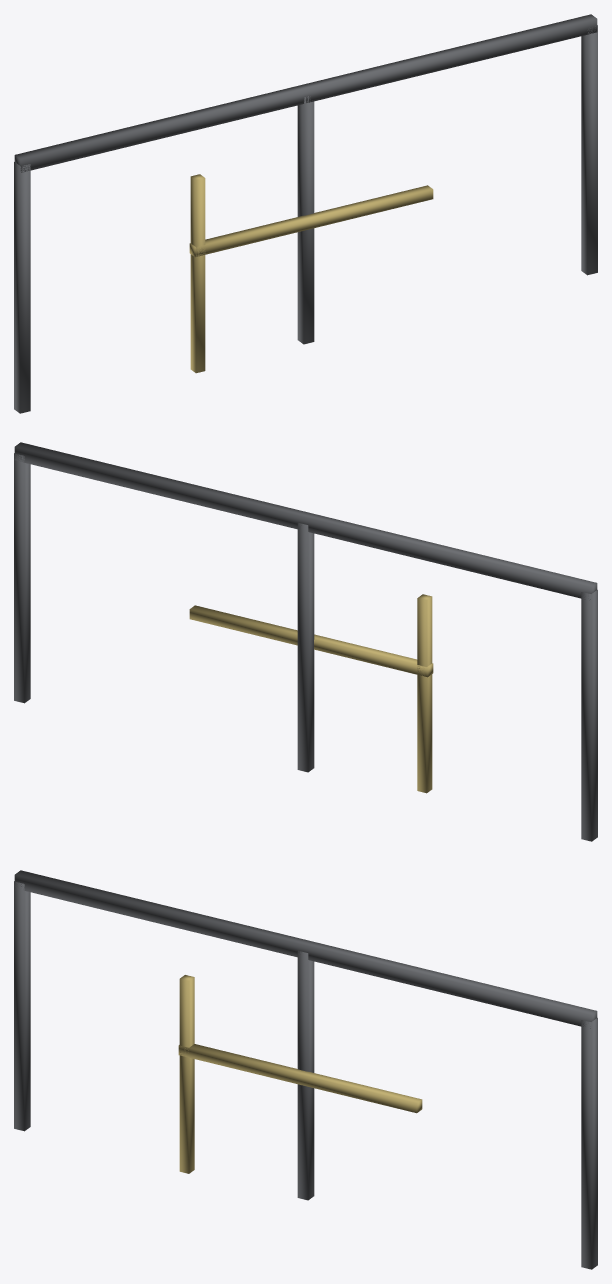
File: industrial_gate_l240_h100.glb
The picture shows the model from 3 angles, top to bottom: view 1: azimuth 30°, elevation 25°; view 2: azimuth 150°, elevation 25°; view 3: azimuth 330°, elevation 25°; orthographic projection.
Visible parts, largest first — view 1: world; view 2: world; view 3: world.
Boxes of the visible parts, box(x1,y1,x2,y2) form: world: box(14, 14, 597, 413); world: box(14, 442, 597, 841); world: box(14, 870, 597, 1269).
Bounding box in the file's own units: 2.44 × 1.03 × 0.0825.
